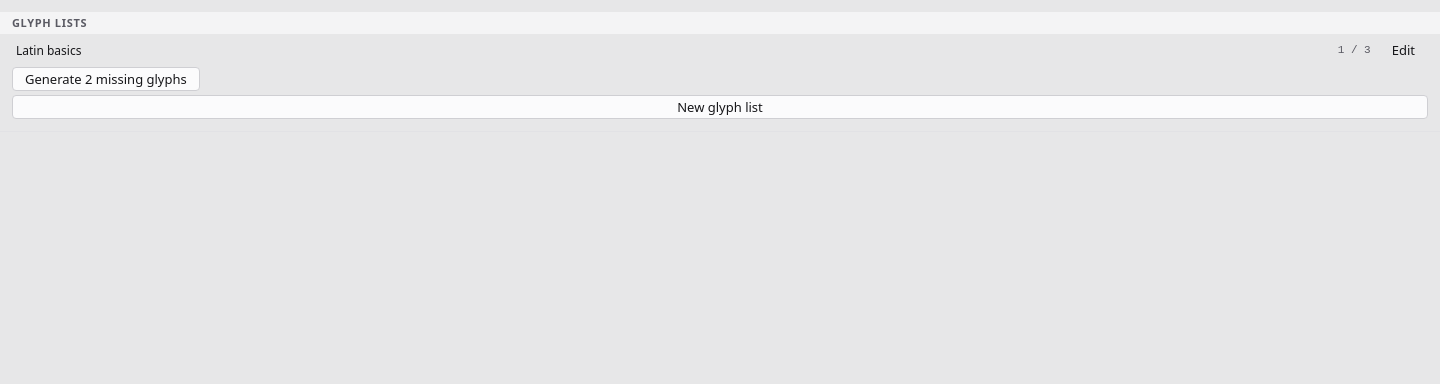
GlyphListsPanel › refreshes saved list contents on undo without losing an unsaved draft
The width and height of the screenshot is (1440, 384).
Expected: the button "Latin basics 1 / 3" is shown, [12,38,1375,63]
Click the button "New glyph list" at {"x": 720, "y": 107}, box [12,95,1428,119]
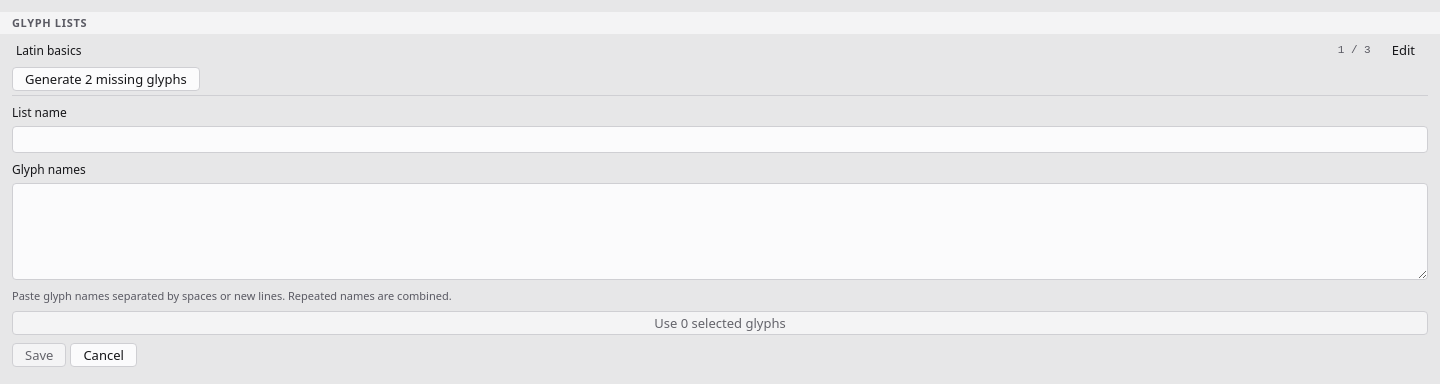
Type "Draft" into the field labelled "List name" at {"x": 720, "y": 140}, box [12,126,1428,153]
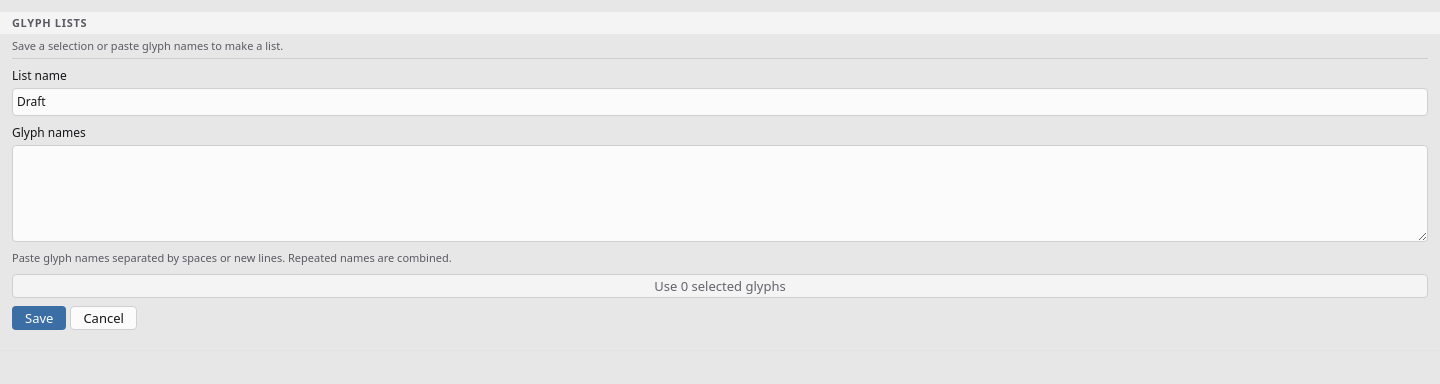
Expected: the button "Latin basics 1 / 3" is gone
